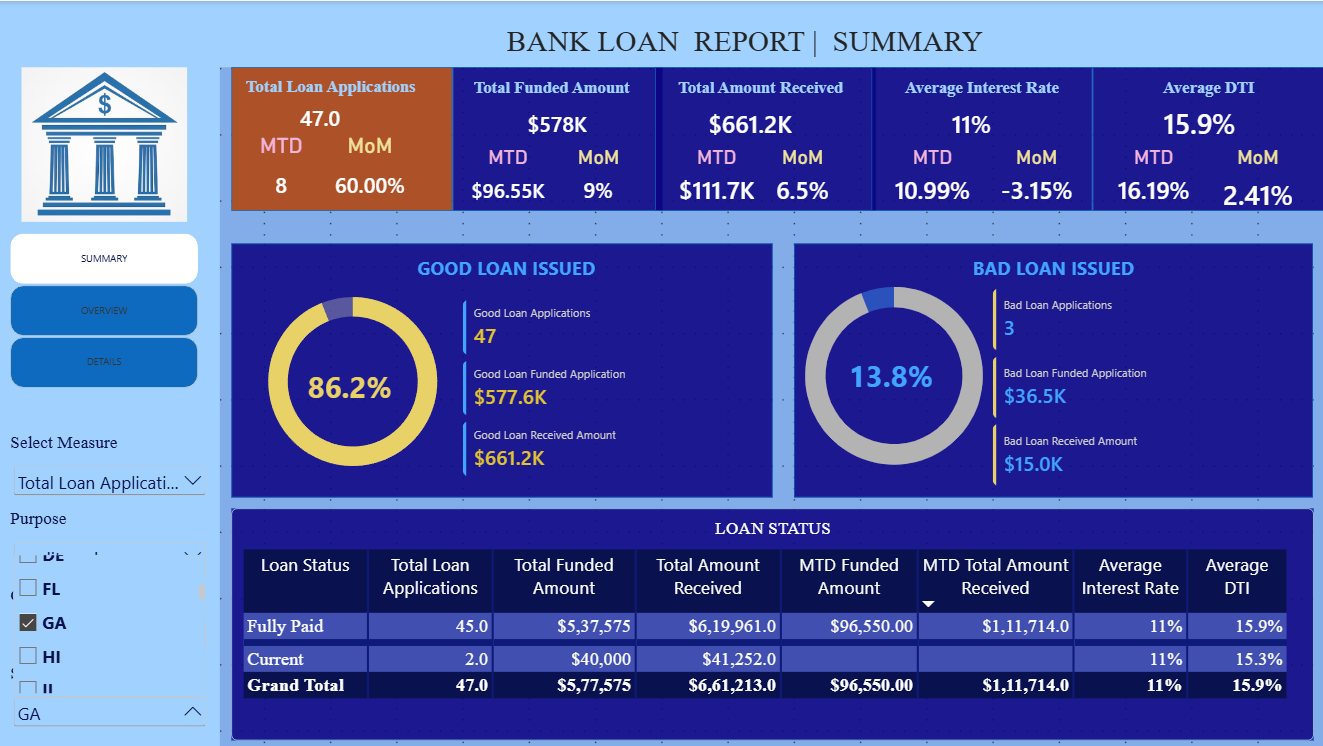

The page's visual inventory and layout, read from the dashboard file:
{"tool":"powerbi","page":{"name":"SUMMARY","canvas":[1920,1080],"ordinal":0},"visuals":[{"type":"shape","box":[0,88,320,992],"z":0},{"type":"shape","box":[336,96,320,208],"z":0,"group":"g1"},{"type":"shape","box":[656,96,304,208],"z":0,"group":"g6"},{"type":"shape","box":[951.6,96,320,208],"z":0,"group":"g3"},{"type":"shape","box":[1264,96,320,208],"z":0,"group":"g4"},{"type":"shape","box":[1584,96,336,208],"z":0,"group":"g5"},{"type":"shape","box":[0,0,1920,96],"z":1000},{"type":"textbox","box":[624,112,352,32],"z":1000,"group":"g6"},{"type":"cardVisual","fields":{"Data":["bank_loan_data.Total Loan Applications"]},"box":[350.5,125.5,228.6,88.6],"z":1000,"group":"g1"},{"type":"cardVisual","fields":{"Data":["bank_loan_data.Total Aount Received"]},"box":[974.5,128,228.6,96],"z":1000,"group":"g3"},{"type":"cardVisual","fields":{"Data":["bank_loan_data.Average Interest Rate"]},"box":[1294.5,128,228.6,96],"z":1000,"group":"g4"},{"type":"cardVisual","fields":{"Data":["bank_loan_data.Average DTI"]},"box":[1616,128,240,96],"z":1000,"group":"g5"},{"type":"textbox","box":[240,32,1680,64],"z":2000},{"type":"textbox","box":[320,110.8,320,29.5],"z":2000,"group":"g1"},{"type":"textbox","box":[944,112,320,32],"z":2000,"group":"g3"},{"type":"textbox","box":[1264,112,320,32],"z":2000,"group":"g4"},{"type":"textbox","box":[1584,112,336,32],"z":2000,"group":"g5"},{"type":"cardVisual","title":"MoM","fields":{"Data":["bank_loan_data.MoM Total Funded Amount"]},"box":[791.6,208,150.9,80],"z":2000,"group":"g6"},{"type":"group","id":"g1","title":"Group 1","box":[320,96,336,208],"z":3000},{"type":"cardVisual","fields":{"Data":["bank_loan_data.Total Funded Amount"]},"box":[720,144,176,64],"z":3000,"group":"g6"},{"type":"cardVisual","title":"MTD","fields":{"Data":["bank_loan_data.MTD Loan Applications"]},"box":[336,192,144,96],"z":3000,"group":"g1"},{"type":"cardVisual","title":"MTD","fields":{"Data":["bank_loan_data.MTD Total Amount Received"]},"box":[960,208,160,80],"z":3000,"group":"g3"},{"type":"cardVisual","title":"MTD","fields":{"Data":["bank_loan_data.MTD Average Interest Rate"]},"box":[1280,208,144,80],"z":3000,"group":"g4"},{"type":"cardVisual","title":"MTD","fields":{"Data":["bank_loan_data.MTD Average DTI"]},"box":[1600,208,144,80],"z":3000,"group":"g5"},{"type":"group","id":"g2","title":"Group 1","box":[624,96,352,208],"z":4000},{"type":"cardVisual","title":"MoM","fields":{"Data":["bank_loan_data.MoM Loan Applications"]},"box":[464,192,144,96],"z":4000,"group":"g1"},{"type":"cardVisual","title":"MTD","fields":{"Data":["bank_loan_data.MTD Funded Amount"]},"box":[656,208,160,80],"z":4000,"group":"g6"},{"type":"cardVisual","title":"MoM","fields":{"Data":["bank_loan_data.Mom Loan Received"]},"box":[1096.4,208,137.1,80],"z":4000,"group":"g3"},{"type":"cardVisual","title":"MoM","fields":{"Data":["bank_loan_data.MoM Avg Int Rate"]},"box":[1424,208,160,80],"z":4000,"group":"g4"},{"type":"cardVisual","title":"MoM","fields":{"Data":["bank_loan_data.MoM Average DTI"]},"box":[1744,208,160,96],"z":4000,"group":"g5"},{"type":"shape","box":[336,352,784,368],"z":5000},{"type":"group","id":"g3","title":"Group 1","box":[944,96,320,208],"z":6000},{"type":"group","id":"g4","title":"Group 1","box":[1264,96,320,208],"z":7000},{"type":"group","id":"g5","title":"Group 1","box":[1584,96,336,208],"z":8000},{"type":"shape","box":[1152,352,752,368],"z":9000},{"type":"donutChart","fields":{"Category":["bank_loan_data.Good vs Bad Loan"],"Y":["bank_loan_data.Total Loan Applications"]},"box":[320,384,384,336],"z":10000},{"type":"textbox","box":[448,528,128,64],"z":11000},{"type":"group","id":"g6","title":"Group 2","box":[624,96,352,208],"z":11001,"group":"g2"},{"type":"textbox","box":[352,368,768,48],"z":12000},{"type":"cardVisual","fields":{"Data":["bank_loan_data.Good Loan Applications","bank_loan_data.Good Loan Funded Application","bank_loan_data.Good Loan Received Amount"]},"box":[672,432,432,256],"z":13000},{"type":"donutChart","fields":{"Category":["bank_loan_data.Good vs Bad Loan"],"Y":["bank_loan_data.Total Loan Applications"]},"box":[1104,368,384,352],"z":14000},{"type":"textbox","box":[1152,368,752,48],"z":15000},{"type":"textbox","box":[1232,512,144,64],"z":16000},{"type":"cardVisual","fields":{"Data":["bank_loan_data.Bad Loan Applications","bank_loan_data.Bad Loan Funded Application","bank_loan_data.Bad Loan Received Amount"]},"box":[1440,416,400,288],"z":17000},{"type":"shape","box":[336,736,1568,336],"z":18000},{"type":"tableEx","title":"LOAN STATUS","fields":{"Values":["bank_loan_data.loan_status","bank_loan_data.Total Loan Applications","bank_loan_data.Total Funded Amount","bank_loan_data.Total Aount Received","bank_loan_data.MTD Funded Amount","bank_loan_data.MTD Total Amount Received","bank_loan_data.Average Interest Rate","bank_loan_data.Average DTI"]},"box":[336,736,1568,336],"z":19000},{"type":"slicer","title":"Purpose","fields":{"Values":["bank_loan_data.purpose"]},"box":[16,736,288,96],"z":20000},{"type":"slicer","title":"Grade","fields":{"Values":["bank_loan_data.grade"]},"box":[16,848,288,96],"z":21000},{"type":"slicer","title":"State","fields":{"Values":["bank_loan_data.address_state"]},"box":[16,960,288,112],"z":22000},{"type":"image","box":[32,96,240,224],"z":23000},{"type":"pageNavigator","box":[16,336,272,224],"z":24000},{"type":"slicer","title":"Select Measure","fields":{"Values":["Select Measure.Select Measure"]},"box":[16,624,288,96],"z":25000}]}

Visuals, with their boxes on the page's 1920x1080 design canvas (x1, y1, x2, y2). These are canvas units, not pixel positions in the 1323x746 screenshot, which may show the page scaled, cropped or inside an application window:
shape: select_region(0, 88, 320, 1080)
shape: select_region(336, 96, 656, 304)
shape: select_region(656, 96, 960, 304)
shape: select_region(952, 96, 1272, 304)
shape: select_region(1264, 96, 1584, 304)
shape: select_region(1584, 96, 1920, 304)
shape: select_region(0, 0, 1920, 96)
textbox: select_region(624, 112, 976, 144)
cardVisual - bank_loan_data.Total Loan Applications: select_region(350, 126, 579, 214)
cardVisual - bank_loan_data.Total Aount Received: select_region(974, 128, 1203, 224)
cardVisual - bank_loan_data.Average Interest Rate: select_region(1294, 128, 1523, 224)
cardVisual - bank_loan_data.Average DTI: select_region(1616, 128, 1856, 224)
textbox: select_region(240, 32, 1920, 96)
textbox: select_region(320, 111, 640, 140)
textbox: select_region(944, 112, 1264, 144)
textbox: select_region(1264, 112, 1584, 144)
textbox: select_region(1584, 112, 1920, 144)
"MoM" cardVisual: select_region(792, 208, 942, 288)
"Group 1" group: select_region(320, 96, 656, 304)
cardVisual - bank_loan_data.Total Funded Amount: select_region(720, 144, 896, 208)
"MTD" cardVisual: select_region(336, 192, 480, 288)
"MTD" cardVisual: select_region(960, 208, 1120, 288)
"MTD" cardVisual: select_region(1280, 208, 1424, 288)
"MTD" cardVisual: select_region(1600, 208, 1744, 288)
"Group 1" group: select_region(624, 96, 976, 304)
"MoM" cardVisual: select_region(464, 192, 608, 288)
"MTD" cardVisual: select_region(656, 208, 816, 288)
"MoM" cardVisual: select_region(1096, 208, 1234, 288)
"MoM" cardVisual: select_region(1424, 208, 1584, 288)
"MoM" cardVisual: select_region(1744, 208, 1904, 304)
shape: select_region(336, 352, 1120, 720)
"Group 1" group: select_region(944, 96, 1264, 304)
"Group 1" group: select_region(1264, 96, 1584, 304)
"Group 1" group: select_region(1584, 96, 1920, 304)
shape: select_region(1152, 352, 1904, 720)
donutChart - bank_loan_data.Good vs Bad Loan x bank_loan_data.Total Loan Applications: select_region(320, 384, 704, 720)
textbox: select_region(448, 528, 576, 592)
"Group 2" group: select_region(624, 96, 976, 304)
textbox: select_region(352, 368, 1120, 416)
cardVisual - bank_loan_data.Good Loan Applications x bank_loan_data.Good Loan Funded Application: select_region(672, 432, 1104, 688)
donutChart - bank_loan_data.Good vs Bad Loan x bank_loan_data.Total Loan Applications: select_region(1104, 368, 1488, 720)
textbox: select_region(1152, 368, 1904, 416)
textbox: select_region(1232, 512, 1376, 576)
cardVisual - bank_loan_data.Bad Loan Applications x bank_loan_data.Bad Loan Funded Application: select_region(1440, 416, 1840, 704)
shape: select_region(336, 736, 1904, 1072)
"LOAN STATUS" tableEx: select_region(336, 736, 1904, 1072)
"Purpose" slicer: select_region(16, 736, 304, 832)
"Grade" slicer: select_region(16, 848, 304, 944)
"State" slicer: select_region(16, 960, 304, 1072)
image: select_region(32, 96, 272, 320)
pageNavigator: select_region(16, 336, 288, 560)
"Select Measure" slicer: select_region(16, 624, 304, 720)
